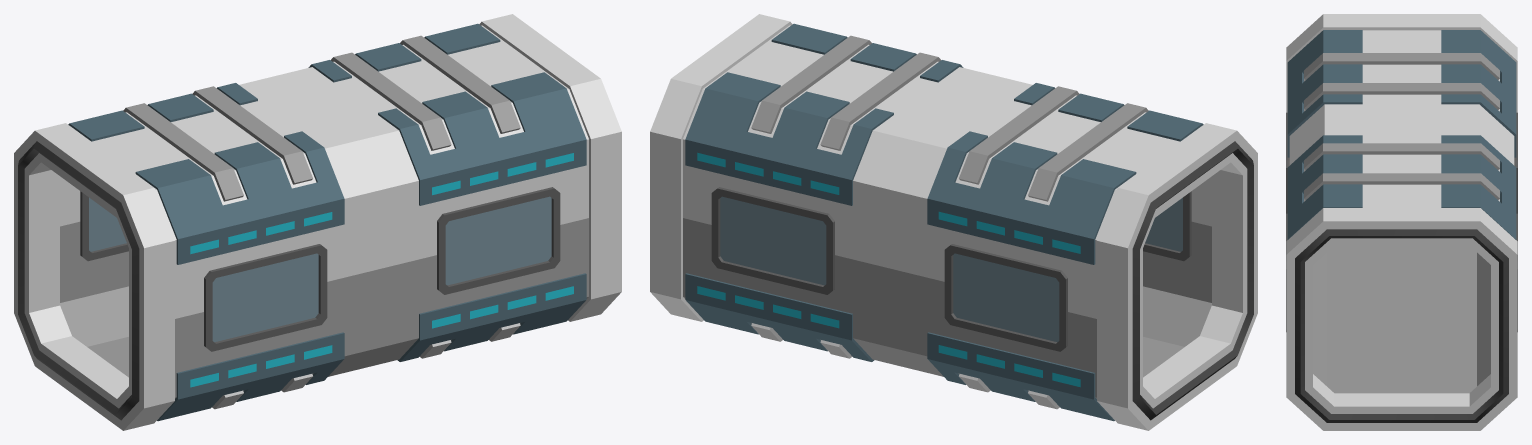
File: section_007.fbx
The picture shows the model from 3 angles, left to right: view 1: azimuth 30°, elevation 25°; view 2: azimuth 150°, elevation 25°; view 3: azimuth 270°, elevation 25°; orthographic projection. The views are drawn at different scales.
Visible parts, largest first — view 1: section_007; view 2: section_007; view 3: section_007.
Boxes of the visible parts, box(x1,y1,x2,y2) form: section_007: box(14, 14, 621, 430); section_007: box(650, 14, 1257, 430); section_007: box(1286, 14, 1517, 430).
Size of the model in its own units: 703 by 326 by 327.
